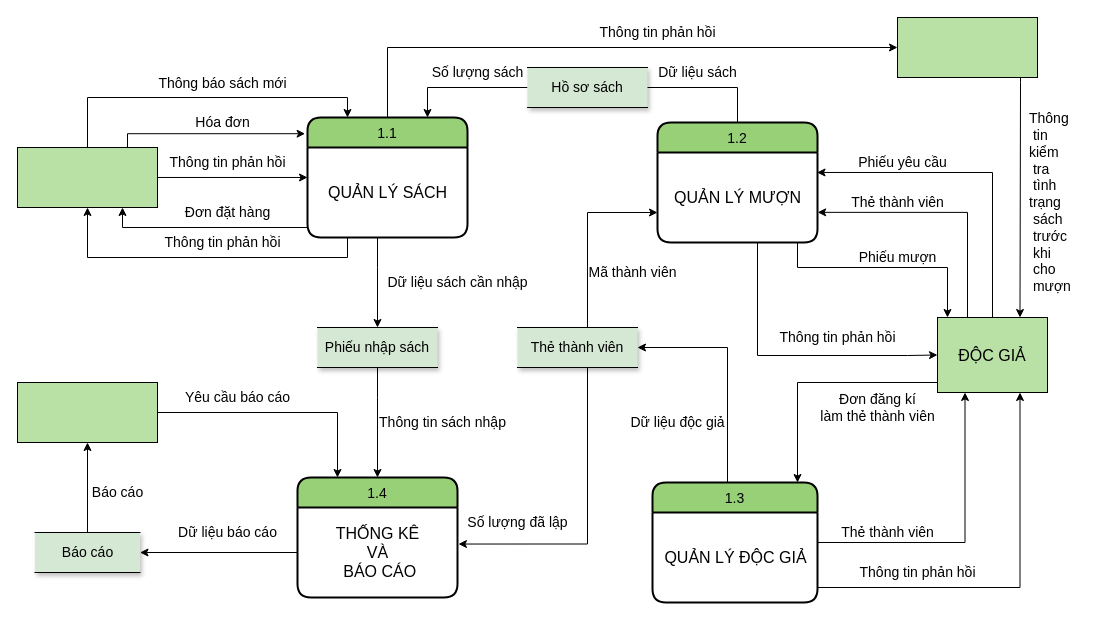
This 1115x621 diagram has some shape labels left out. Each missing label, with the centre of its shape:
"BAN LÃNH ĐẠO" belongs at (87,412).
"NHÀ XUẤT BẢN" belongs at (87,177).
"THỦ THƯ" belongs at (967,47).
